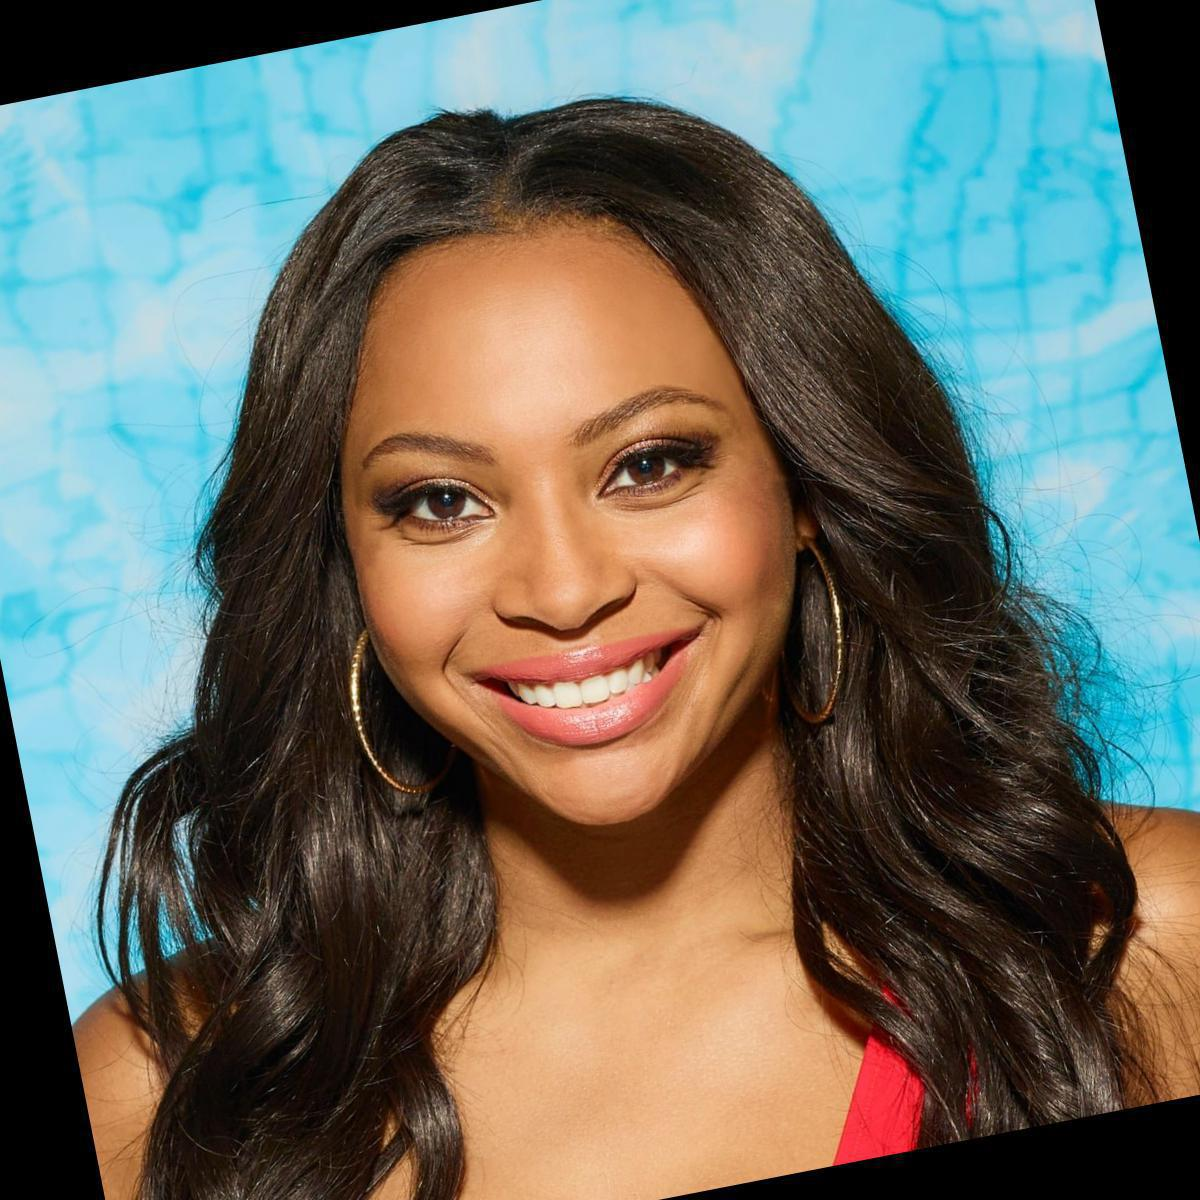Sober: (346, 263, 791, 824)
